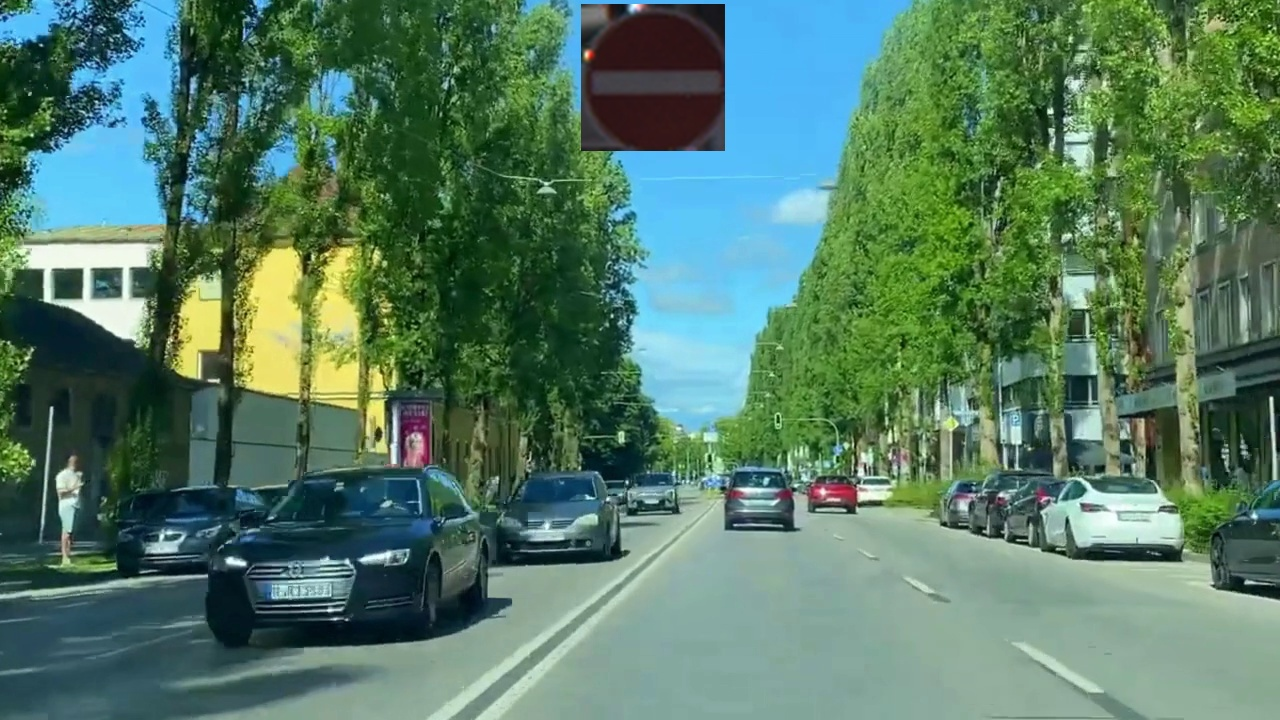No entry: (581, 4, 725, 151)
